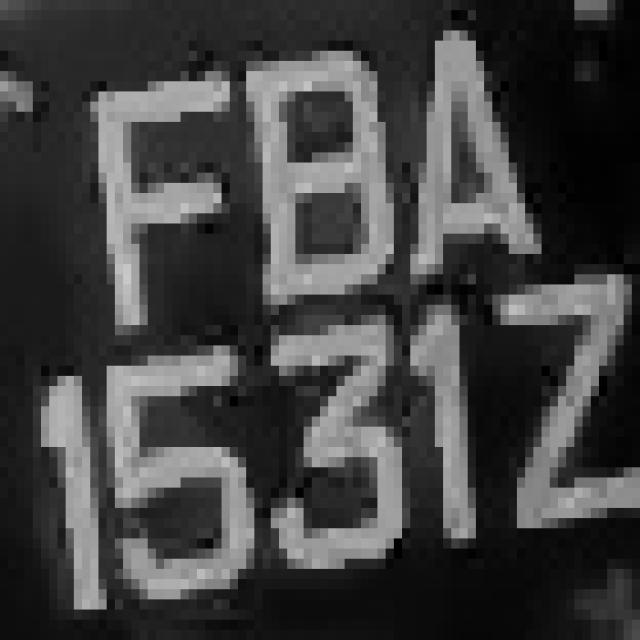1: (402, 274, 492, 549), (32, 345, 106, 640)
3: (230, 315, 402, 579)
5: (90, 325, 254, 589)
A: (386, 31, 542, 284)
B: (230, 31, 402, 325)
F: (66, 51, 230, 345)
Z: (492, 274, 632, 518)
